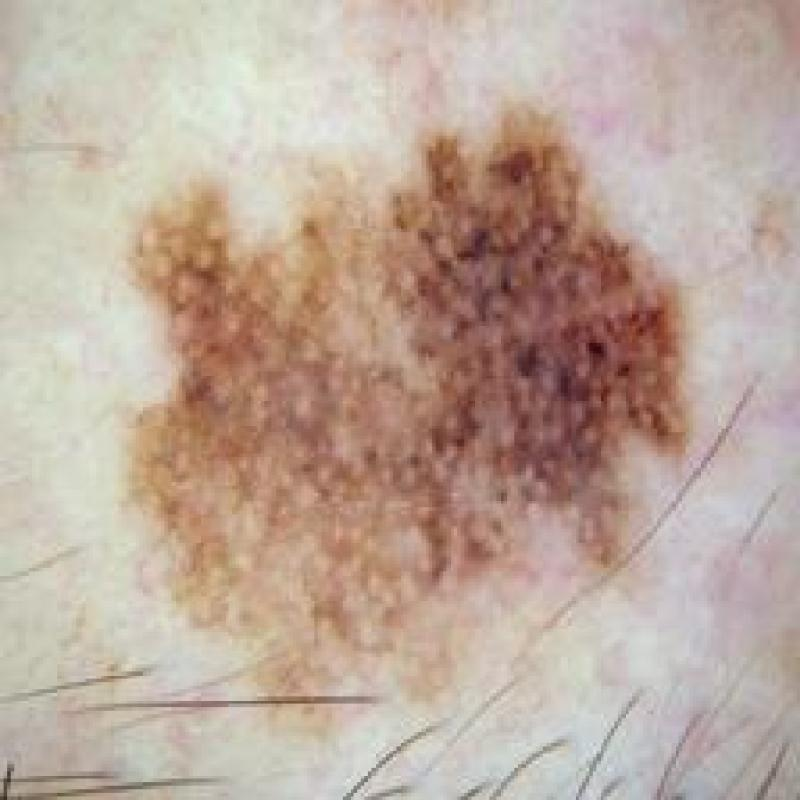malignant: (77, 101, 714, 726)
